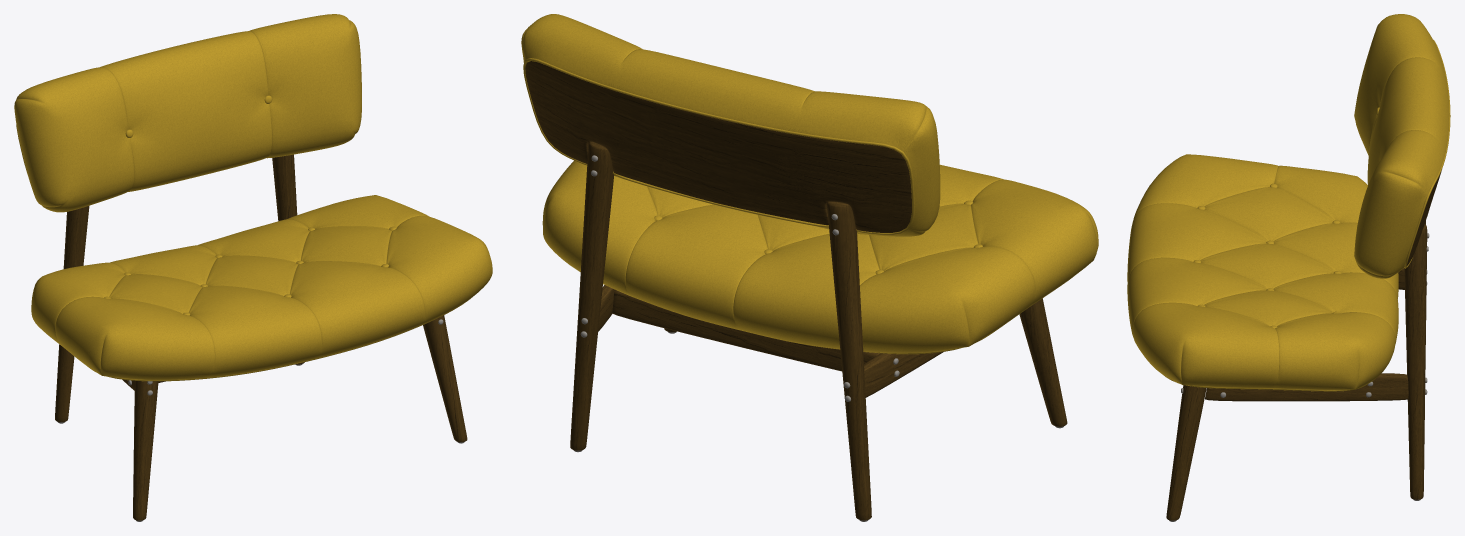
File: armchair-tufted.glb
3 renders of one model, left to right at view 1: azimuth 30°, elevation 25°; view 2: azimuth 150°, elevation 25°; view 3: azimuth 270°, elevation 25°, orthographic. The views are drawn at different scales.
Visible parts, largest first — view 1: SheenChair_fabric, SheenChair_wood; view 2: SheenChair_fabric, SheenChair_wood; view 3: SheenChair_fabric, SheenChair_wood.
Part boxes in pixels (box(x1,y1,x2,y2)): SheenChair_fabric: box(14, 14, 492, 381); SheenChair_wood: box(55, 154, 467, 520); SheenChair_fabric: box(521, 14, 1098, 354); SheenChair_wood: box(525, 61, 1067, 520); SheenChair_fabric: box(1127, 14, 1450, 391); SheenChair_wood: box(1166, 170, 1441, 520).
Size of the model in its own units: 0.8266 by 0.6863 by 0.5703.
3 materials, 2 textured.
